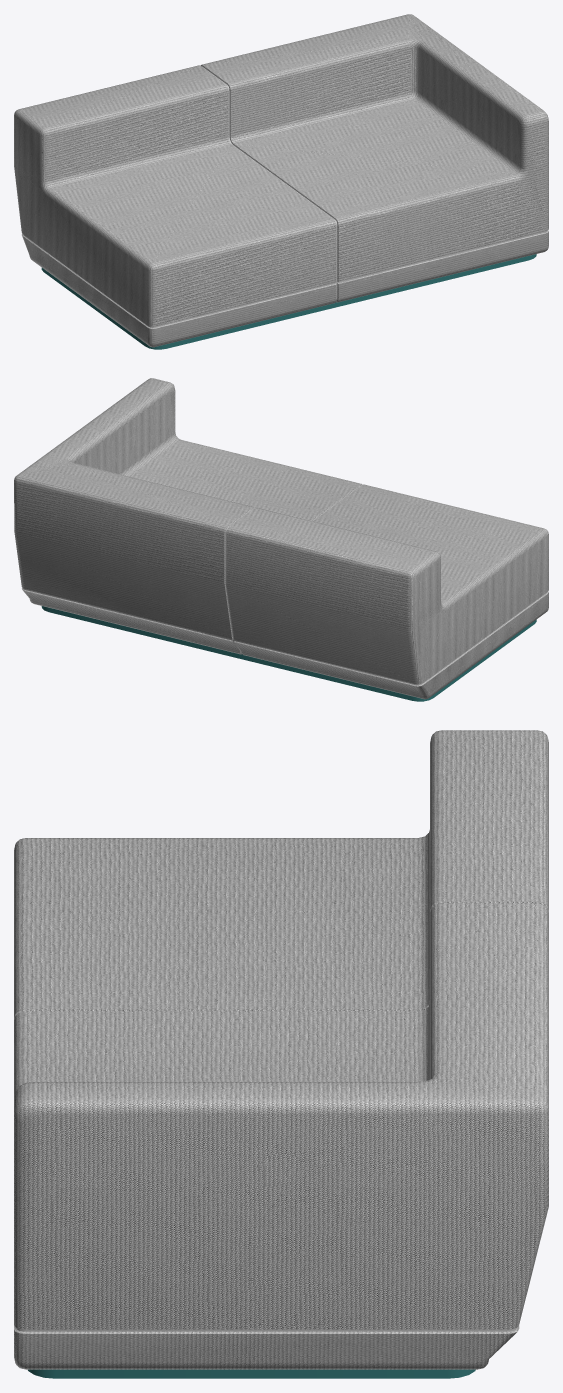
Rendered from D_Bench_102_a.fbx.
The picture shows the model from 3 angles, top to bottom: view 1: azimuth 30°, elevation 25°; view 2: azimuth 150°, elevation 25°; view 3: azimuth 270°, elevation 25°; orthographic projection. The views are drawn at different scales.
Parts seen in each view (by area): view 1: D_Bench_102_a; view 2: D_Bench_102_a; view 3: D_Bench_102_a.
Part boxes in pixels (left/top/right/bottom): D_Bench_102_a: left=14, top=14, right=548, bottom=349; D_Bench_102_a: left=14, top=378, right=548, bottom=701; D_Bench_102_a: left=14, top=730, right=548, bottom=1378.
Size of the model in its own units: 1.5 by 0.52 by 0.9.
